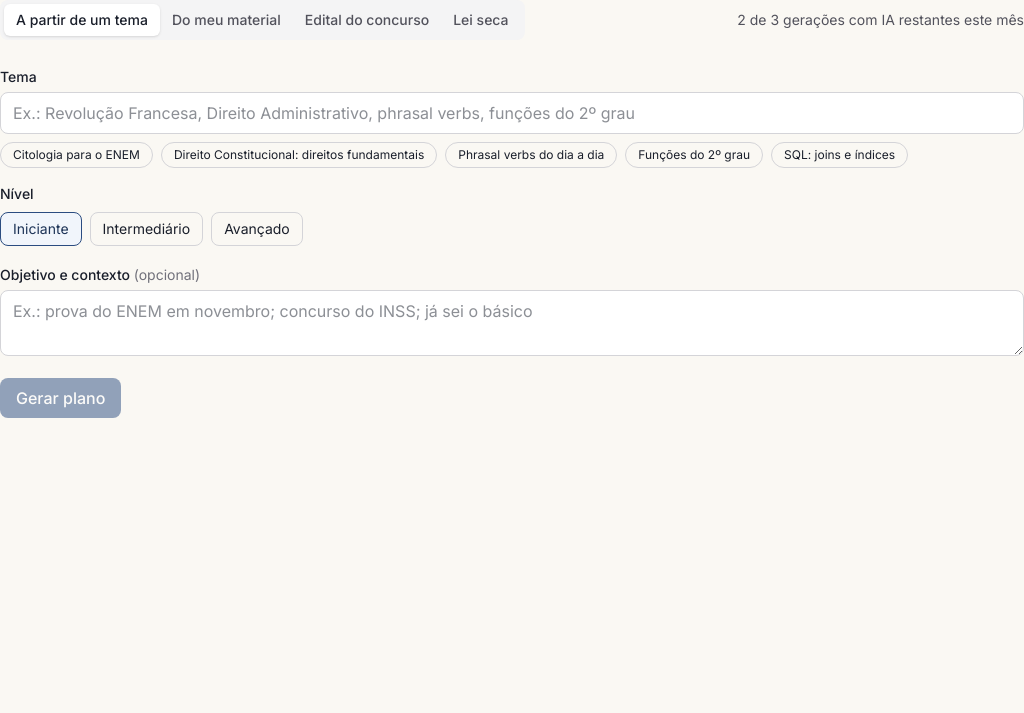
Scenario: Novo tema › gera o plano e mostra a prévia de todas as etapas
In the field labelled "Tema": (512, 113) 0,92 -> 1023,134, type "Banco de dados relacional"
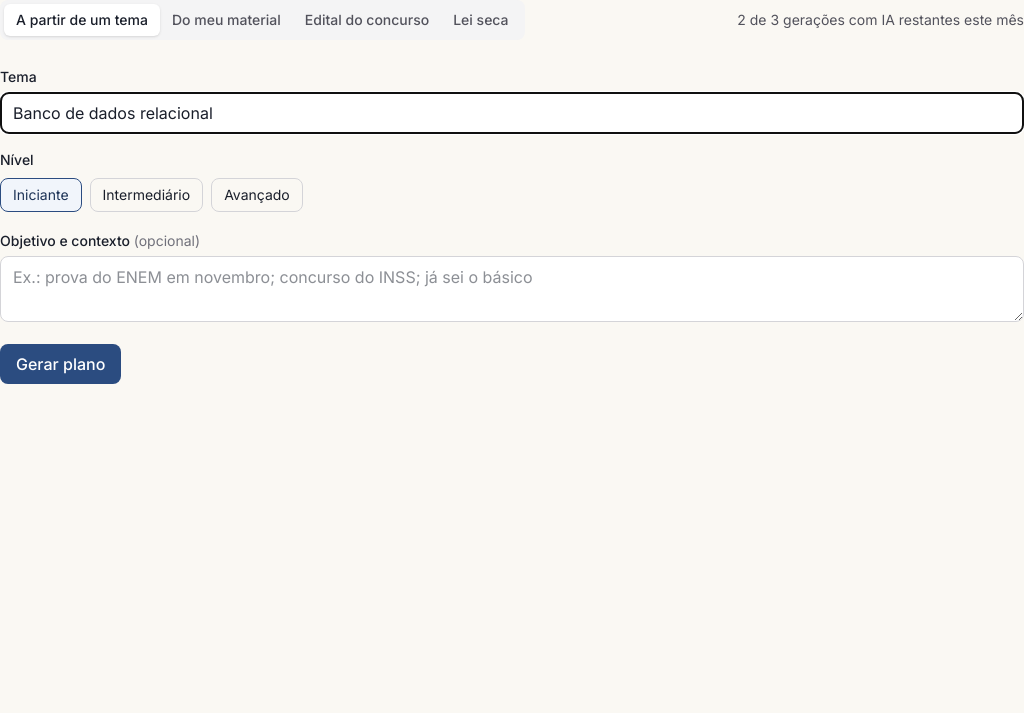
Click the button "Gerar plano": (61, 364) 0,344 -> 121,384
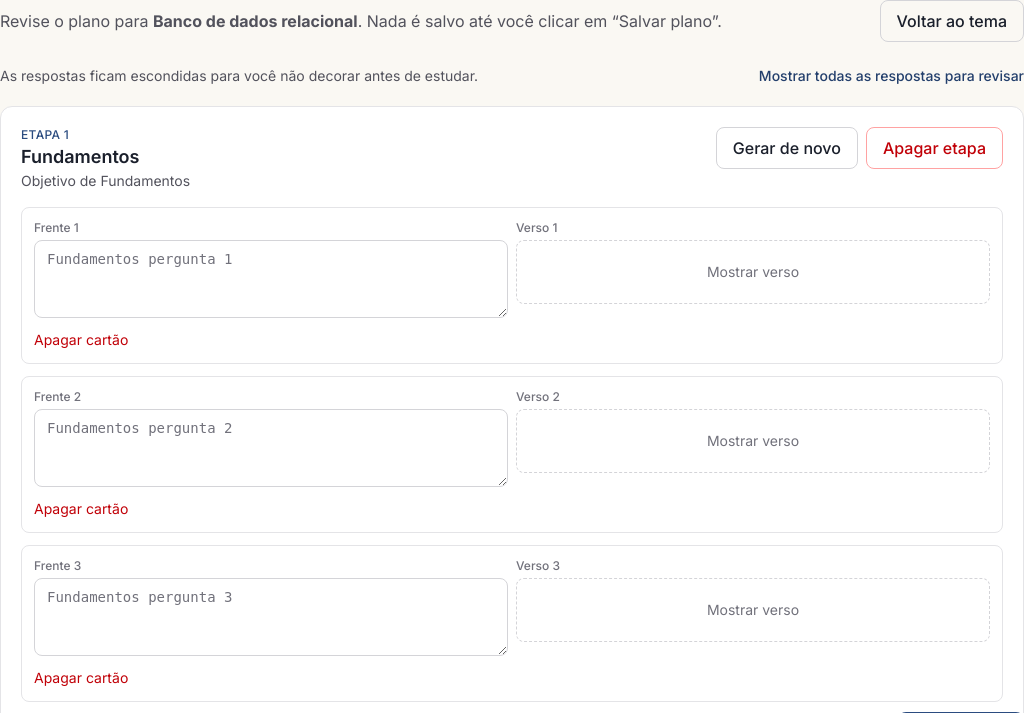
Expected: the heading "Fundamentos" is shown, 21,146 -> 140,167
Expected: the number of headings is 4
